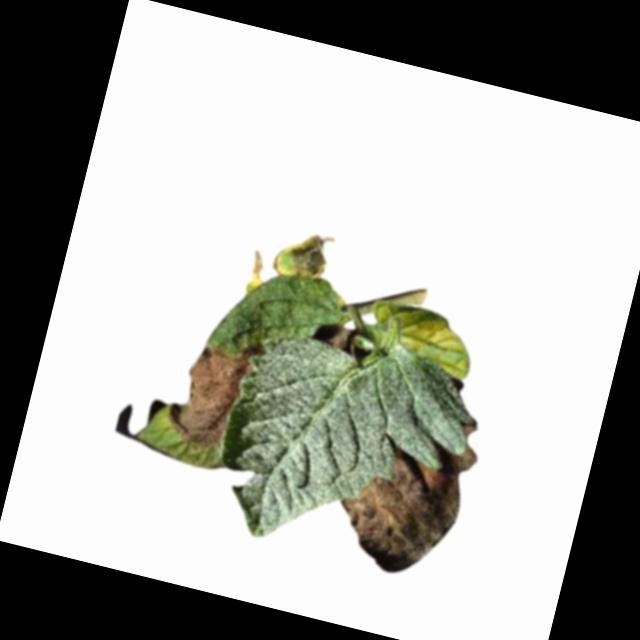Late_blight: (326, 398, 485, 587), (162, 326, 266, 455), (270, 223, 335, 287), (307, 317, 355, 350), (241, 247, 270, 297)
healthy: (202, 309, 488, 583)
